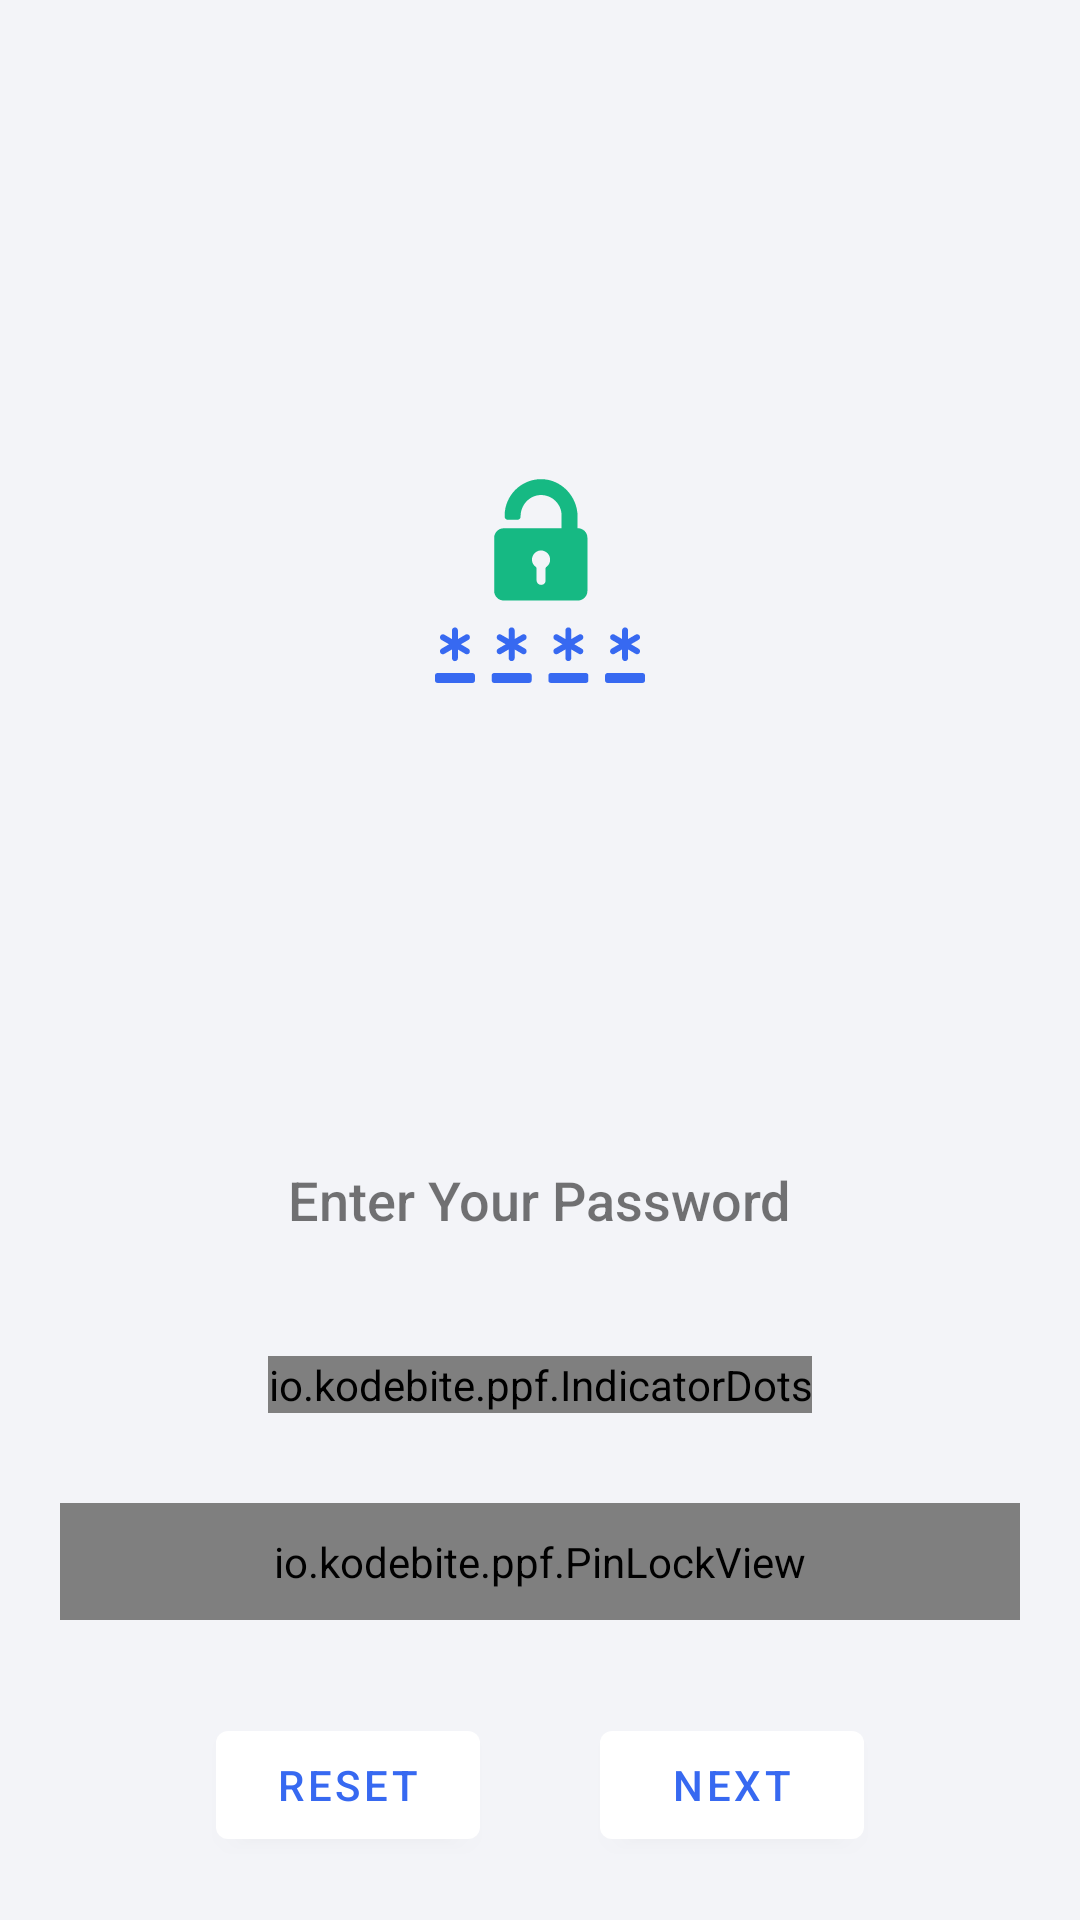

Named icons in this screenshot (1080px x 1920px) and their centers, point (x, y):
lock: point (540, 581)
